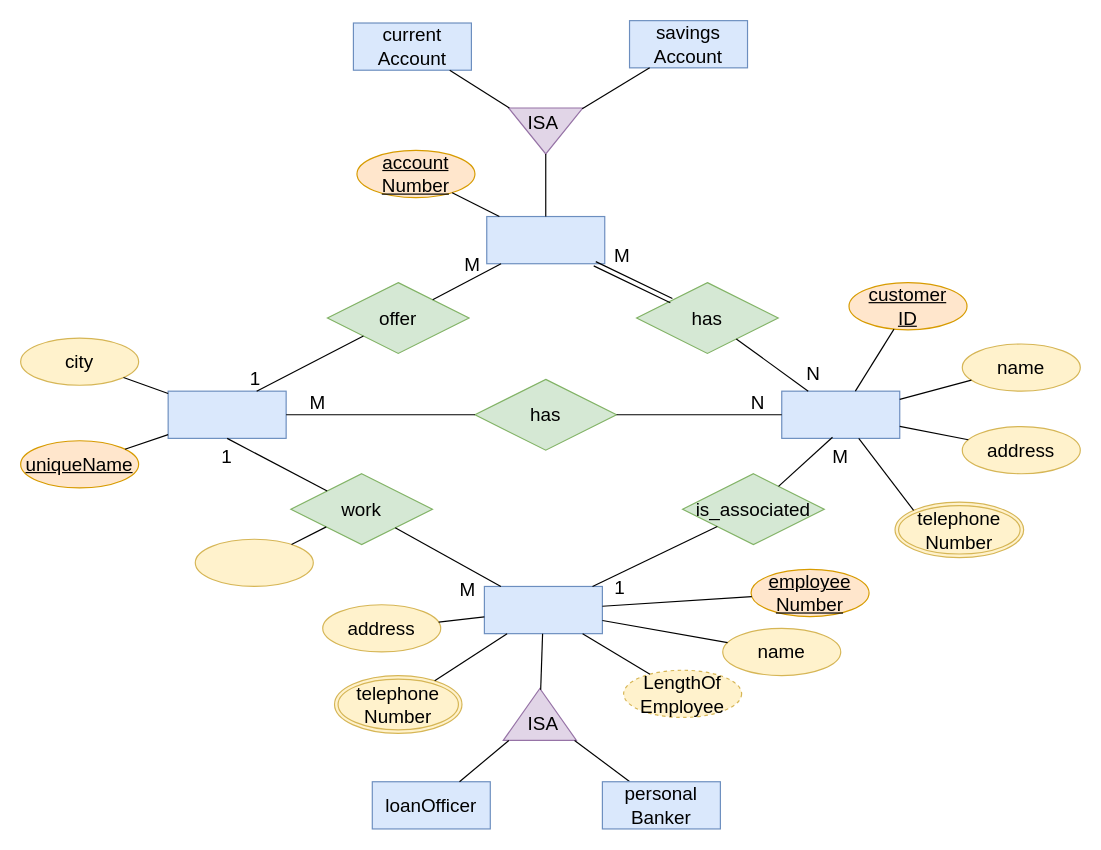
The diagram is 1101 pixels wide and 850 high, and some of its shapes have lost their labels. The centre of each missing label's shape, as x and y in pixels:
"Account" belongs at (x=545, y=239).
"Branch" belongs at (x=226, y=414).
"Customer" belongs at (x=840, y=414).
"Employee" belongs at (x=542, y=609).
"startDate" belongs at (x=253, y=562).
